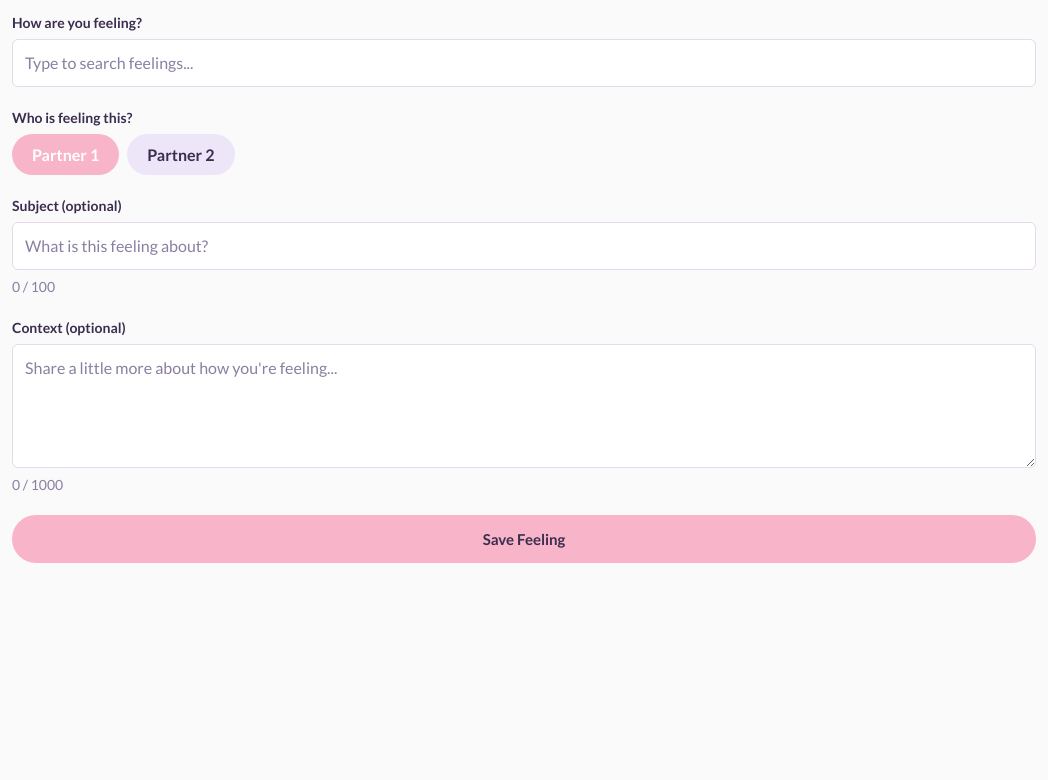
Test: FeelingForm › typing then clearing resets the dropdown
The width and height of the screenshot is (1048, 780).
In the dropdown: (524, 63) [12, 39, 1036, 87], type "sad"
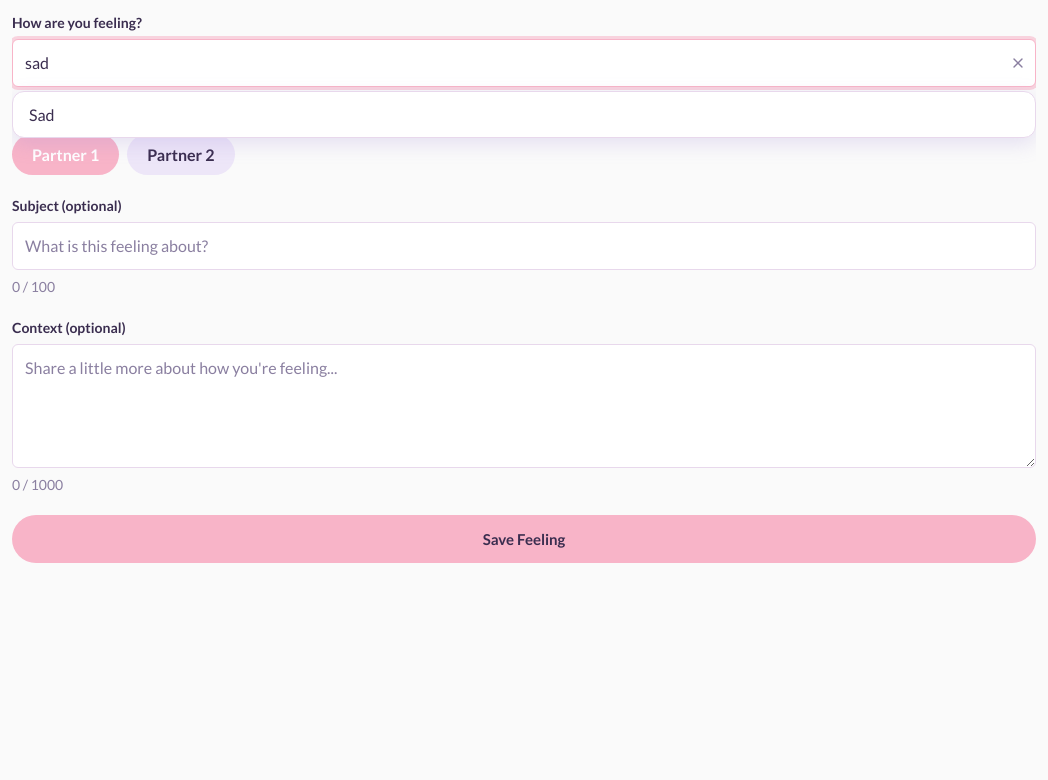
Now the list is shown, box [12, 91, 1036, 138]
Note: Clear the input using the X button
Click the button named "clear feeling selection": click(1018, 63) [1010, 55, 1026, 71]
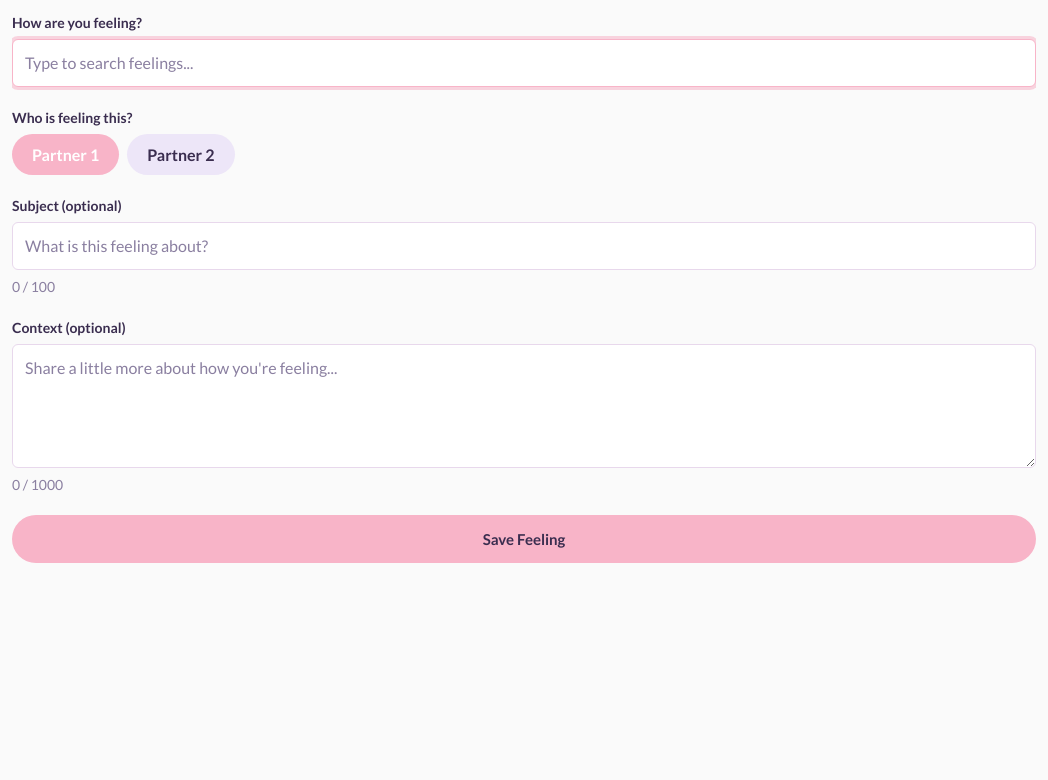
Now the dropdown is empty, box [12, 39, 1036, 87]
Now the list is gone
